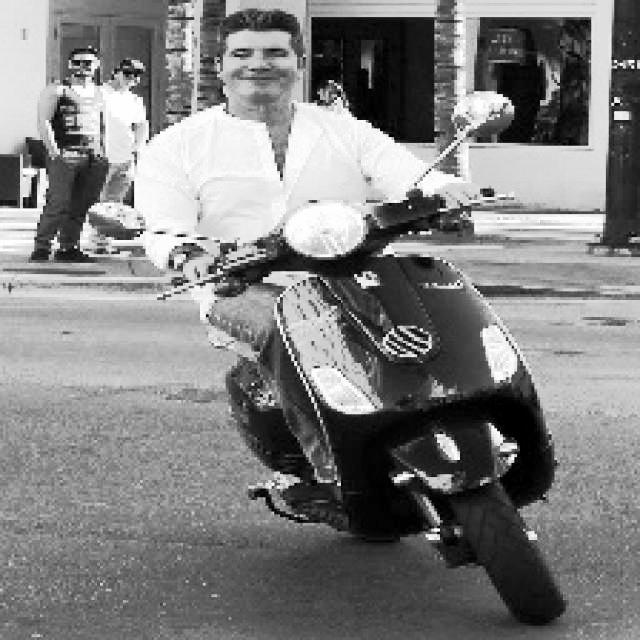Bike: (233, 188, 573, 612)
